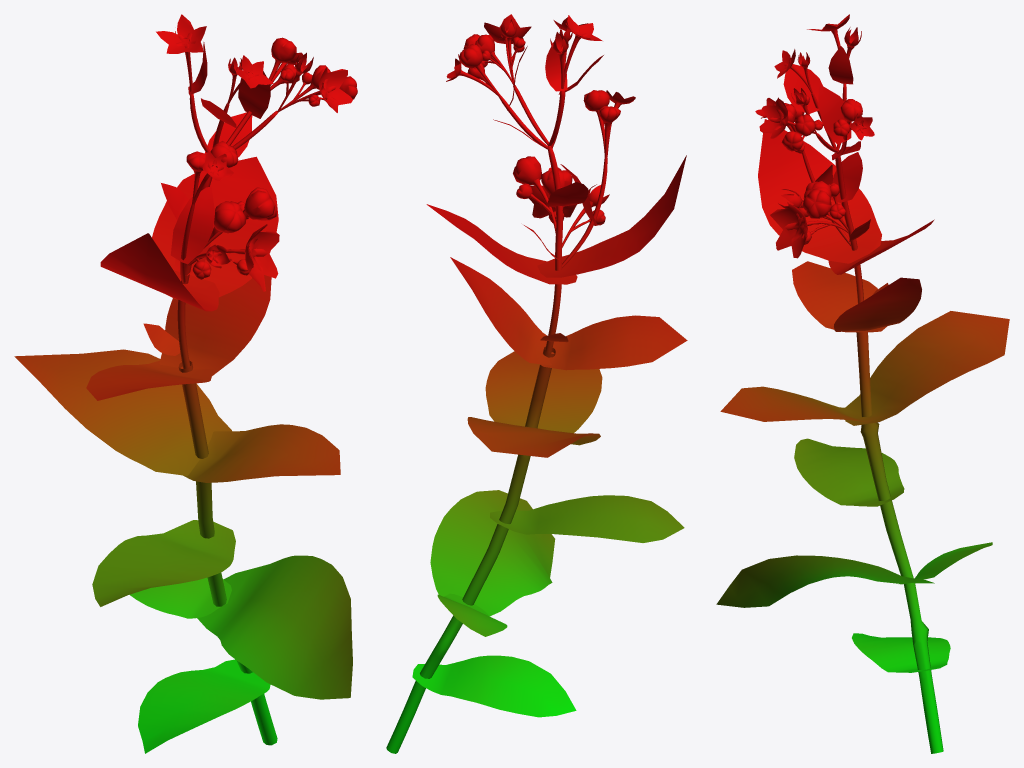
Rendered from Rubber Bush_LOD1_Var5_xffhfekia.fbx.
The picture shows the model from 3 angles, left to right: view 1: azimuth 30°, elevation 25°; view 2: azimuth 150°, elevation 25°; view 3: azimuth 270°, elevation 25°; orthographic projection. The views are drawn at different scales.
Visible parts, largest first — view 1: _tqob_Var5_LOD1; view 2: _tqob_Var5_LOD1; view 3: _tqob_Var5_LOD1.
Part boxes in pixels (x1,y1,x2,y2): _tqob_Var5_LOD1: (14,14,357,753); _tqob_Var5_LOD1: (386,14,687,753); _tqob_Var5_LOD1: (716,14,1009,753).
Bounding box in the file's own units: 22.32 × 67 × 26.16.
